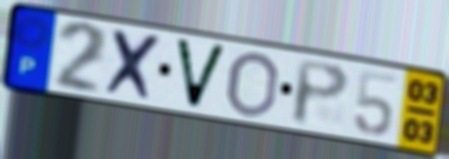2: (53, 19, 109, 97)
5: (351, 67, 400, 138)
O: (223, 49, 282, 120)
P: (291, 57, 353, 129)
V: (172, 35, 230, 112)
X: (102, 26, 167, 106)
